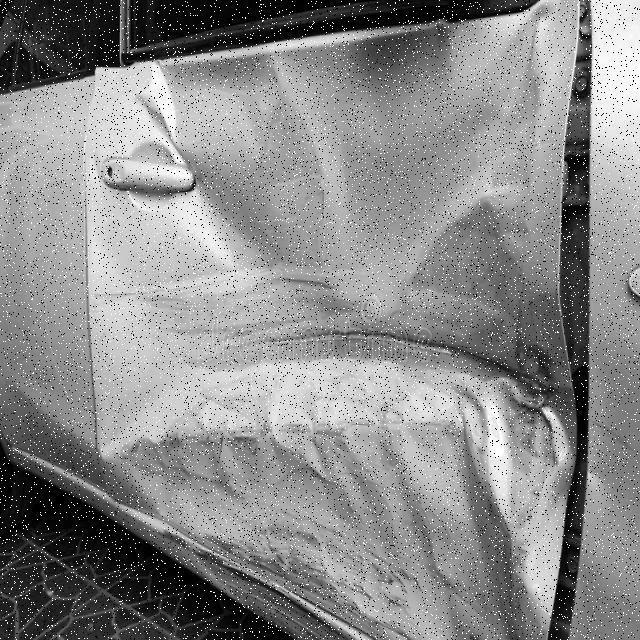doorouter-dent: (92, 21, 601, 631)
